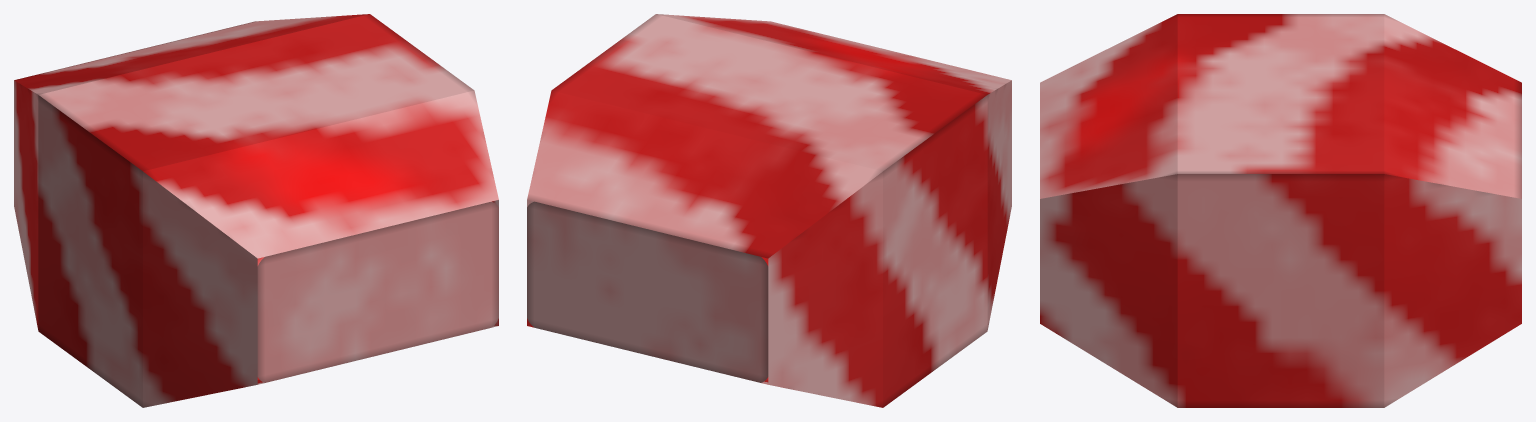
The model's file is Candy.fbx.
3 renders of one model, left to right at view 1: azimuth 30°, elevation 25°; view 2: azimuth 150°, elevation 25°; view 3: azimuth 270°, elevation 25°, orthographic.
Parts seen in each view (by area): view 1: cuboid; view 2: cuboid; view 3: cuboid.
Part boxes in pixels (<box>): cuboid: <box>14,14,498,407</box>; cuboid: <box>527,14,1011,407</box>; cuboid: <box>1040,14,1521,407</box>.
Bounding box in the file's own units: 138 × 93.75 × 175.
1 material, 1 textured.
